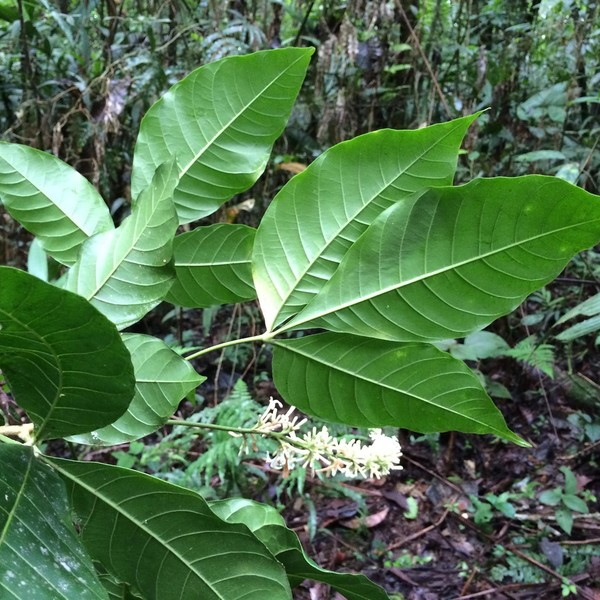obstacle: (36, 72, 540, 575)
